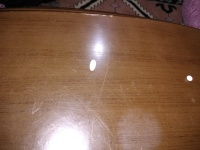Aferin: (89, 59, 96, 72)
